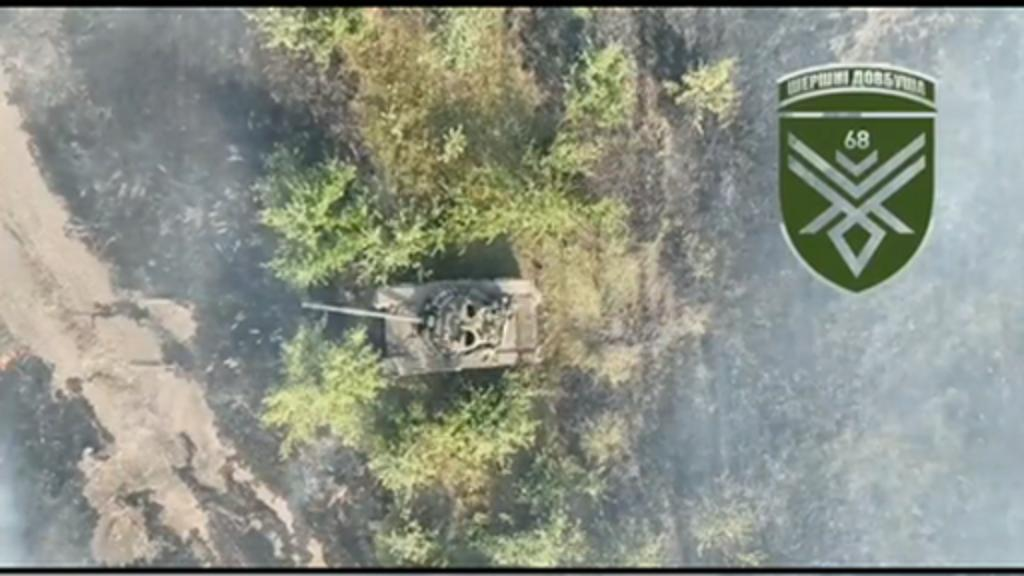TANK: (292, 274, 546, 382)
